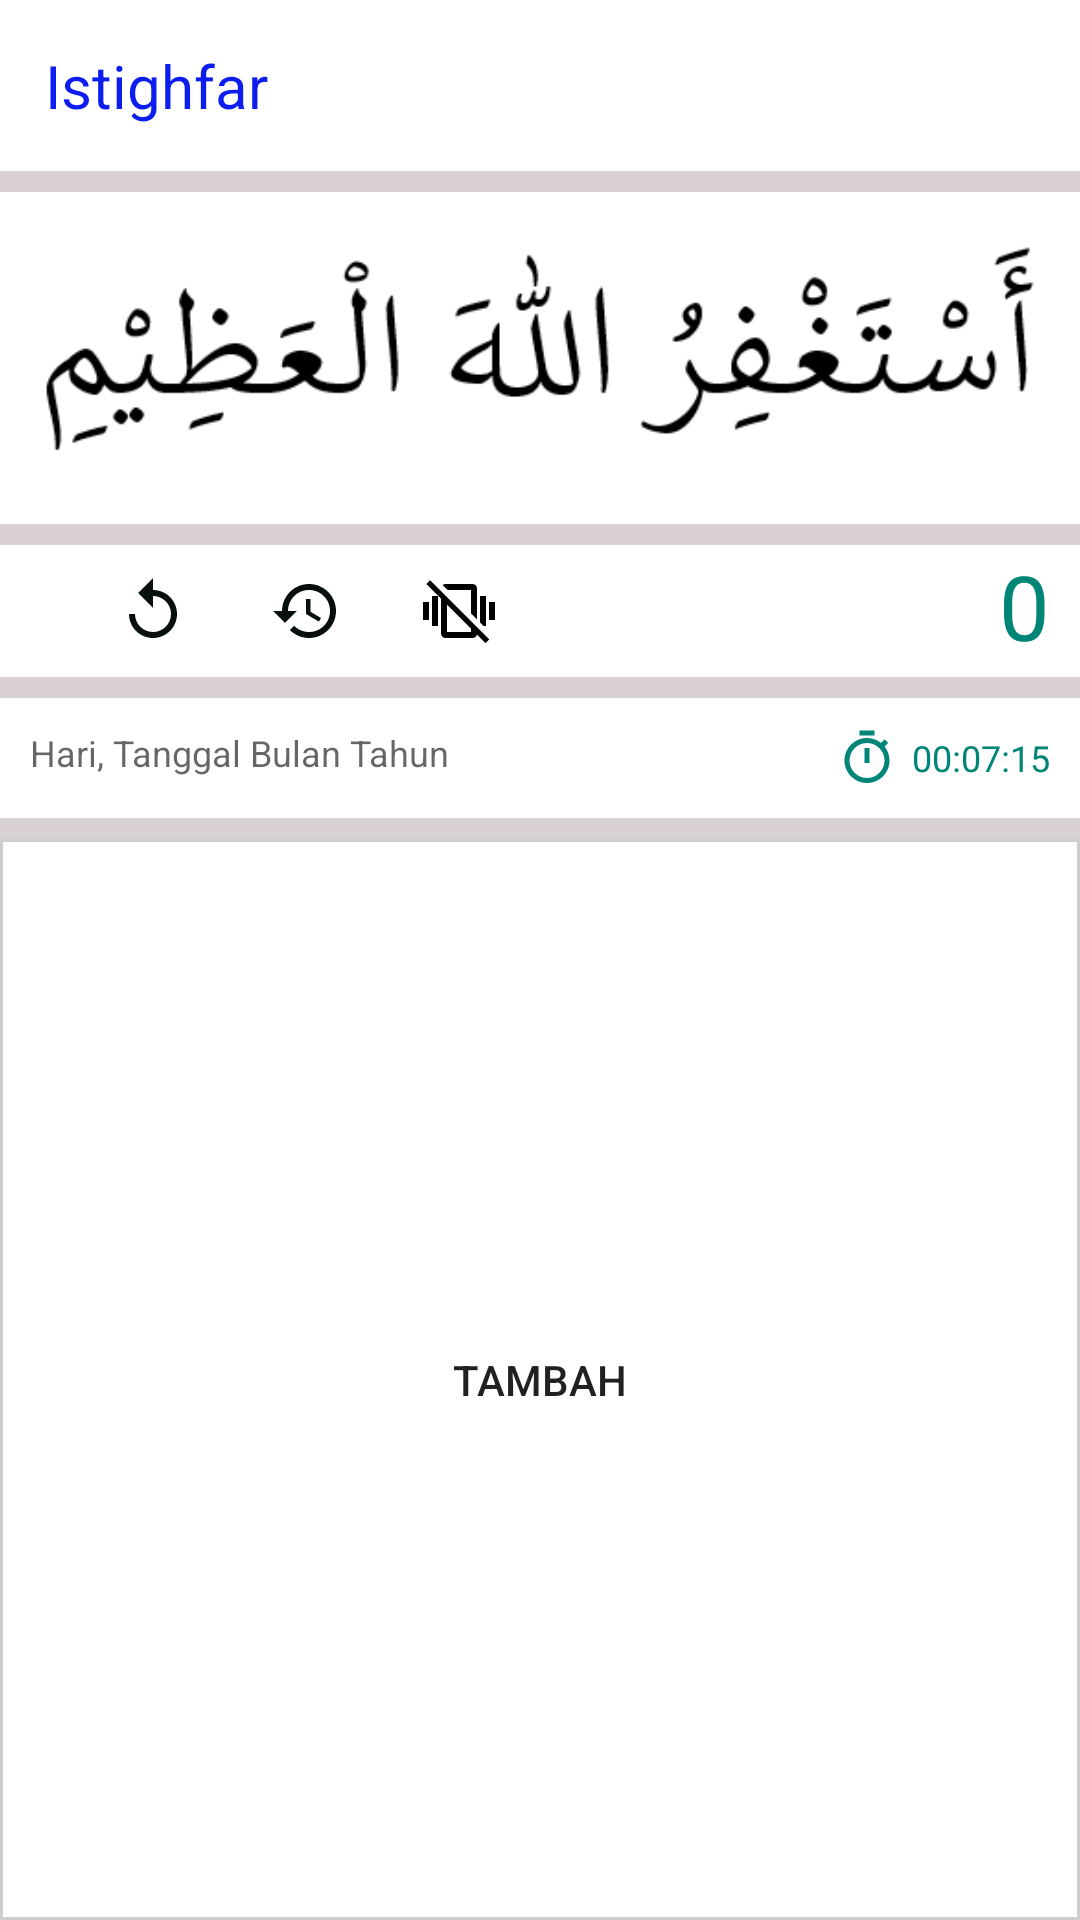

Locate icon controls on the screen. Image size 1080w x 1920h, boxes as BBox(x1, y1, x2, y2).
history: BBox(273, 584, 336, 638)
replay: BBox(129, 578, 177, 638)
timer: BBox(844, 730, 890, 783)
vibrate off: BBox(423, 580, 495, 643)
